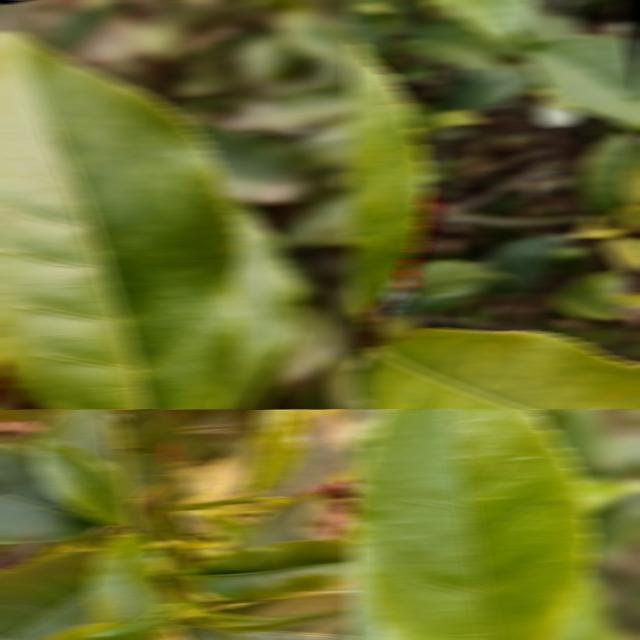Leaf: (0, 33, 246, 409), (348, 409, 594, 640), (348, 39, 429, 321), (362, 328, 640, 409), (523, 34, 640, 132), (0, 444, 104, 544), (186, 540, 356, 601), (189, 124, 306, 204), (0, 550, 102, 640), (256, 409, 356, 498), (32, 438, 131, 526), (230, 481, 356, 550), (85, 533, 169, 625), (217, 590, 356, 640), (397, 19, 511, 71), (245, 409, 311, 495), (38, 603, 188, 640), (19, 409, 114, 466), (578, 132, 640, 217), (434, 0, 535, 49), (183, 437, 257, 503), (482, 234, 564, 290), (439, 64, 537, 109), (552, 574, 616, 640), (407, 259, 511, 297), (549, 283, 623, 320), (121, 412, 183, 455), (0, 541, 51, 571), (603, 236, 640, 273), (173, 617, 230, 640), (348, 359, 374, 409), (619, 158, 640, 211), (0, 409, 41, 421)
